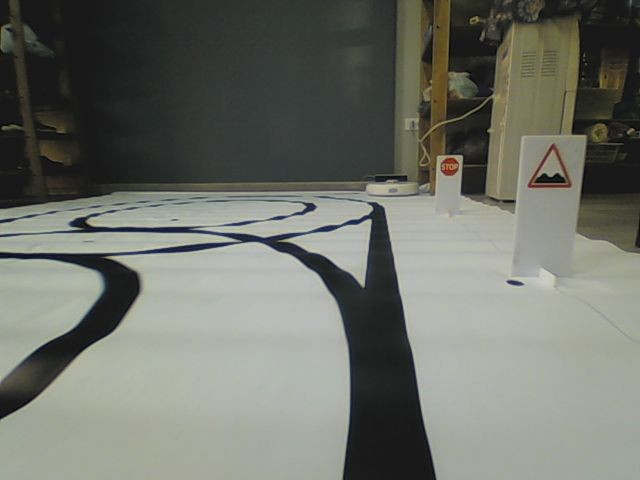Stop: (439, 156, 461, 178)
